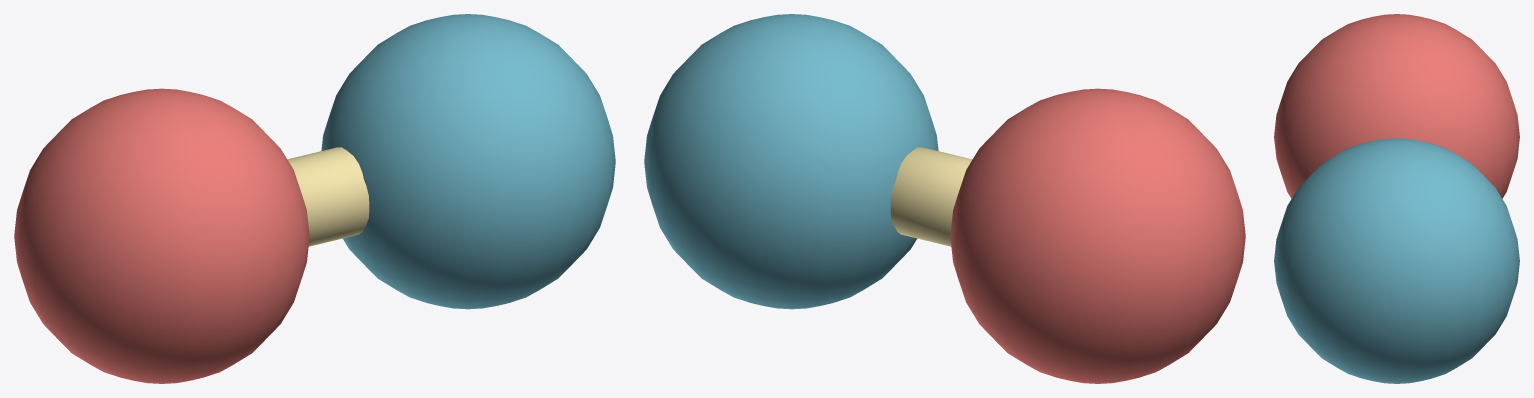
The model's file is pion.glb.
3 views of the same model, side by side, from view 1: azimuth 30°, elevation 25°; view 2: azimuth 150°, elevation 25°; view 3: azimuth 270°, elevation 25° (orthographic). The views are drawn at different scales.
Parts seen in each view (by area): view 1: pion_textured_mesh; view 2: pion_textured_mesh; view 3: pion_textured_mesh.
Boxes of the visible parts, x1,y1,x2,y2 form: pion_textured_mesh: (14, 14, 615, 383); pion_textured_mesh: (644, 14, 1245, 383); pion_textured_mesh: (1274, 14, 1519, 383).
Size of the model in its own units: 2.02 by 0.92 by 0.92.
Materials: 1 (1 with a texture image).
